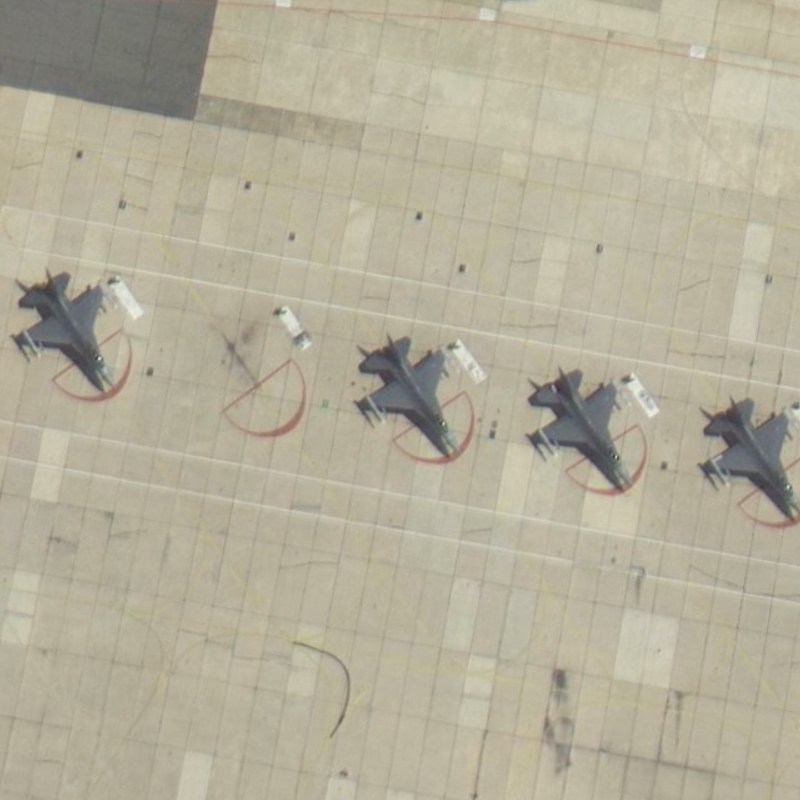A5: (526, 364, 641, 492), (9, 266, 124, 393), (356, 331, 466, 461), (702, 392, 800, 514)
